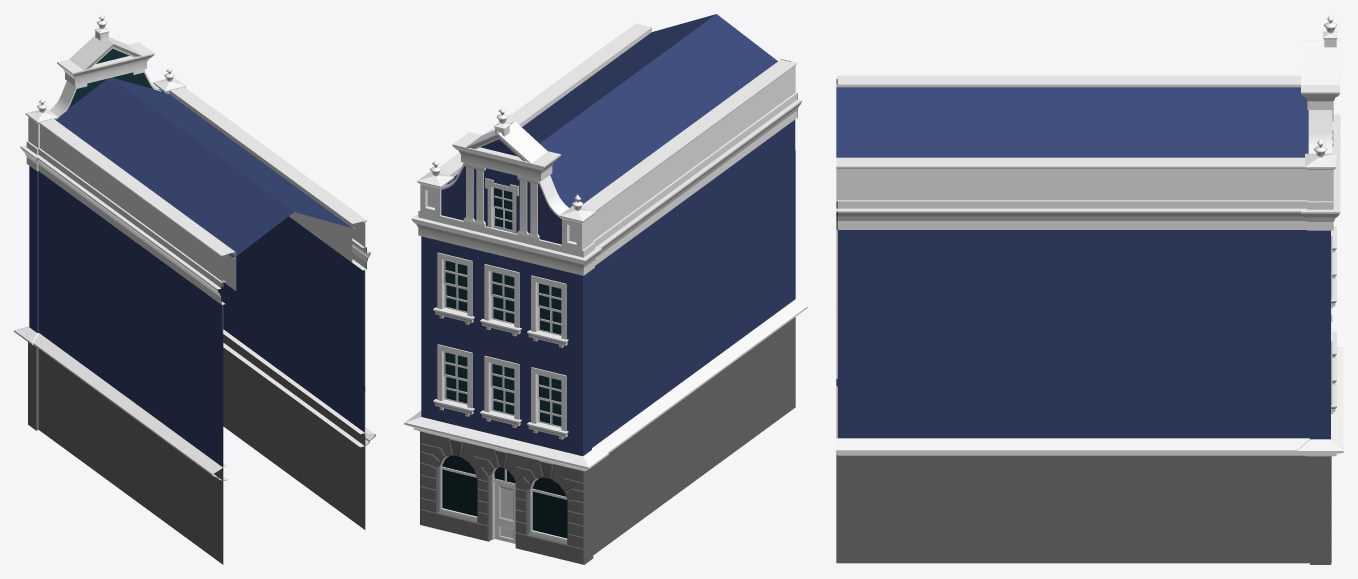
The model's file is Huis3.fbx.
The picture shows the model from 3 angles, left to right: view 1: azimuth 30°, elevation 25°; view 2: azimuth 150°, elevation 25°; view 3: azimuth 270°, elevation 25°; orthographic projection. The views are drawn at different scales.
Visible parts, largest first — view 1: Houses_grpScene_grpParts_geo_25House_geo_08, Houses_grpScene_grpHouse_geo_08Parts_geo_26; view 2: Houses_grpScene_grpParts_geo_25House_geo_08, Houses_grpScene_grpHouse_geo_08Parts_geo_26; view 3: Houses_grpScene_grpParts_geo_25House_geo_08, Houses_grpScene_grpHouse_geo_08Parts_geo_26.
Boxes of the visible parts, x1=… form: Houses_grpScene_grpParts_geo_25House_geo_08: x1=33, y1=77, x2=375, y2=564; Houses_grpScene_grpHouse_geo_08Parts_geo_26: x1=14, y1=14, x2=185, y2=430; Houses_grpScene_grpParts_geo_25House_geo_08: x1=439, y1=14, x2=807, y2=554; Houses_grpScene_grpHouse_geo_08Parts_geo_26: x1=404, y1=107, x2=608, y2=564; Houses_grpScene_grpParts_geo_25House_geo_08: x1=836, y1=75, x2=1309, y2=563; Houses_grpScene_grpHouse_geo_08Parts_geo_26: x1=1297, y1=14, x2=1343, y2=564.
Bounding box in the file's own units: 1012 × 2296 × 2091.
